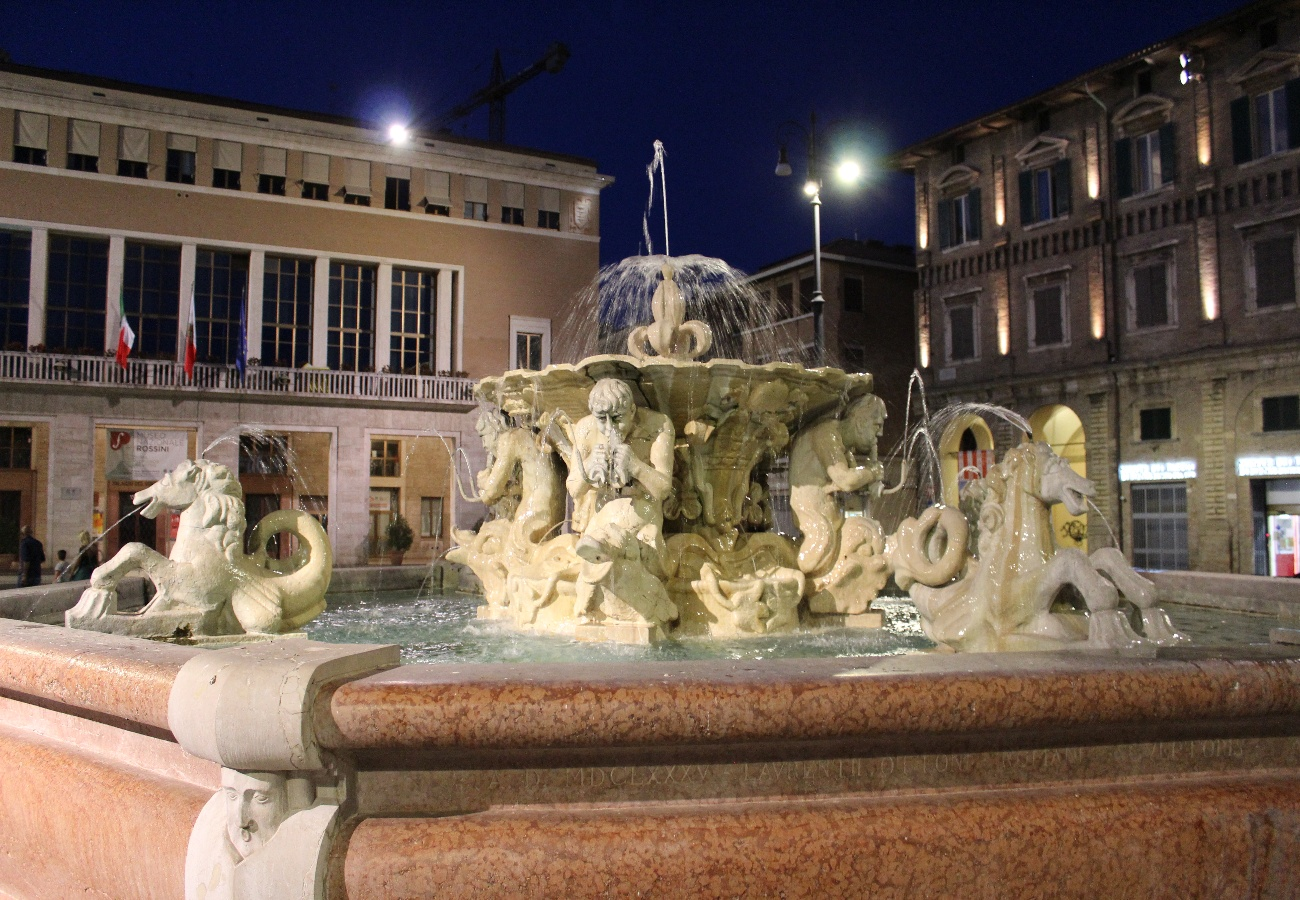Fontana Piazza del Popolo: (448, 354, 889, 643)
